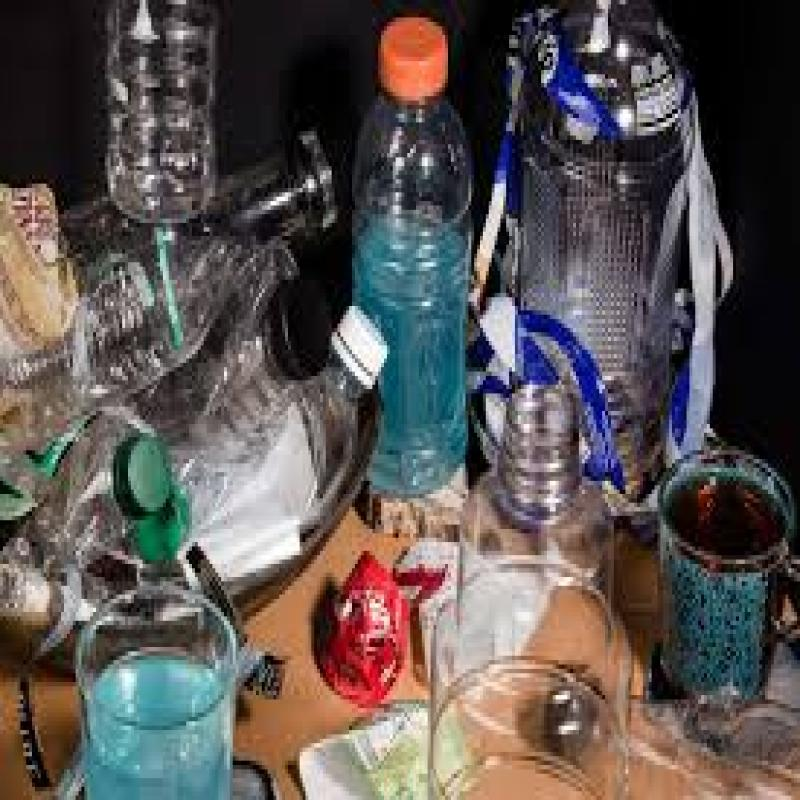botella: (356, 0, 469, 495), (192, 306, 385, 556), (23, 412, 180, 598), (100, 8, 217, 214)
